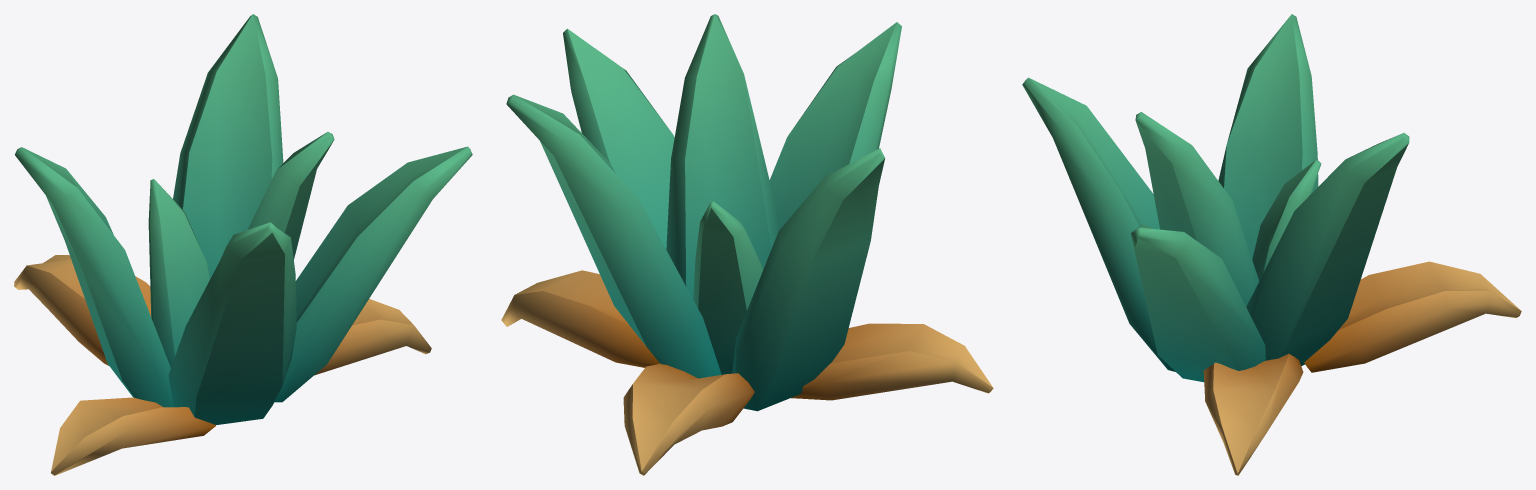
3 renders of one model, left to right at view 1: azimuth 30°, elevation 25°; view 2: azimuth 150°, elevation 25°; view 3: azimuth 270°, elevation 25°, orthographic. The views are drawn at different scales.
Visible parts, largest first — view 1: LOD 1_14127737254430187619_3e1162219392c0d418059c435572ff39; view 2: LOD 1_14127737254430187619_3e1162219392c0d418059c435572ff39; view 3: LOD 1_14127737254430187619_3e1162219392c0d418059c435572ff39.
Part boxes in pixels (x1=…): LOD 1_14127737254430187619_3e1162219392c0d418059c435572ff39: x1=14, y1=14, x2=472, y2=475; LOD 1_14127737254430187619_3e1162219392c0d418059c435572ff39: x1=501, y1=14, x2=993, y2=475; LOD 1_14127737254430187619_3e1162219392c0d418059c435572ff39: x1=1022, y1=14, x2=1521, y2=475.
Bounding box in the file's own units: 0.9316 × 0.6423 × 0.9602.
